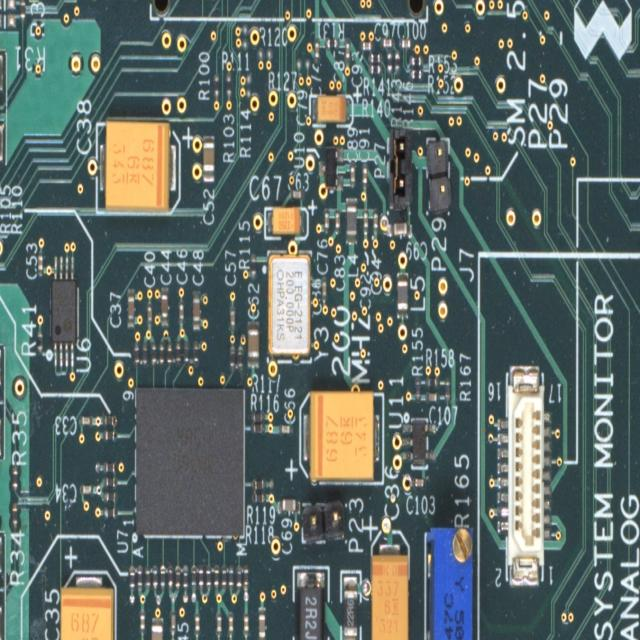IC: (133, 386, 245, 538), (50, 255, 75, 372), (403, 416, 435, 471), (319, 144, 342, 190)
capacitor: (246, 321, 260, 368), (202, 134, 214, 182), (387, 220, 411, 239), (276, 498, 300, 514), (160, 286, 169, 327), (192, 290, 200, 331), (151, 615, 163, 640), (127, 287, 134, 328), (258, 607, 265, 640), (322, 207, 330, 234), (360, 162, 368, 189), (228, 307, 236, 331), (79, 483, 93, 496), (215, 611, 222, 637), (193, 611, 200, 636), (362, 207, 368, 236), (78, 414, 92, 426), (334, 206, 340, 234), (412, 476, 426, 488), (169, 610, 176, 634), (398, 36, 412, 48), (424, 392, 440, 402), (37, 250, 43, 276), (146, 300, 152, 326), (178, 300, 184, 326), (139, 608, 145, 634), (360, 38, 373, 50), (289, 189, 303, 200), (380, 37, 394, 48), (372, 208, 378, 233), (349, 162, 355, 186), (242, 612, 248, 636), (227, 611, 233, 635), (278, 424, 292, 434), (321, 275, 326, 302), (344, 38, 350, 60), (313, 38, 319, 59)
clock: (266, 249, 312, 363)
component text: (324, 407, 368, 466), (110, 132, 155, 188), (274, 266, 304, 342), (376, 562, 401, 636), (70, 607, 100, 640), (453, 574, 465, 640), (303, 591, 318, 640), (442, 589, 454, 640), (277, 210, 291, 232), (346, 598, 354, 626)
connector: (497, 364, 551, 586), (426, 135, 452, 216), (301, 500, 346, 542), (0, 339, 6, 461), (0, 50, 6, 164), (0, 530, 5, 640)
electrolytic capacitor: (95, 120, 182, 215), (299, 390, 385, 486), (369, 529, 410, 640), (58, 569, 116, 640), (307, 92, 354, 126), (263, 207, 308, 240)
inductor: (291, 565, 330, 640), (396, 272, 409, 318), (345, 196, 357, 244)
jumper: (387, 129, 413, 210)
pads: (294, 54, 310, 73), (257, 47, 273, 59), (241, 23, 248, 50), (245, 72, 251, 98)
potentiometer: (423, 524, 472, 640)
resistor: (339, 569, 362, 640), (166, 562, 174, 590), (11, 464, 18, 494), (213, 72, 220, 100), (225, 72, 232, 100), (368, 50, 382, 64), (424, 376, 440, 388), (251, 477, 265, 490), (128, 564, 135, 590), (102, 429, 117, 441), (251, 491, 266, 503), (236, 345, 243, 370), (183, 340, 189, 369), (102, 414, 116, 426), (103, 506, 117, 518), (141, 340, 147, 368), (174, 338, 180, 366), (136, 564, 142, 592), (235, 564, 242, 588), (324, 36, 338, 48), (408, 54, 423, 65), (221, 563, 227, 590), (102, 492, 118, 502), (103, 475, 116, 487), (150, 341, 156, 367), (182, 564, 188, 590), (205, 564, 211, 590), (158, 340, 164, 365), (166, 341, 172, 366), (250, 412, 265, 422), (144, 565, 150, 590), (11, 502, 17, 526), (103, 461, 116, 472), (193, 340, 198, 368), (250, 424, 264, 434), (368, 64, 382, 74), (133, 342, 139, 365), (393, 51, 399, 73), (250, 252, 255, 278), (175, 564, 180, 590), (409, 69, 423, 78), (415, 377, 420, 402), (445, 378, 450, 402), (152, 564, 157, 588), (160, 565, 165, 589), (198, 564, 203, 588), (191, 565, 196, 588), (387, 51, 392, 74), (230, 344, 234, 372), (214, 563, 218, 591), (244, 563, 248, 590), (228, 564, 232, 590)
